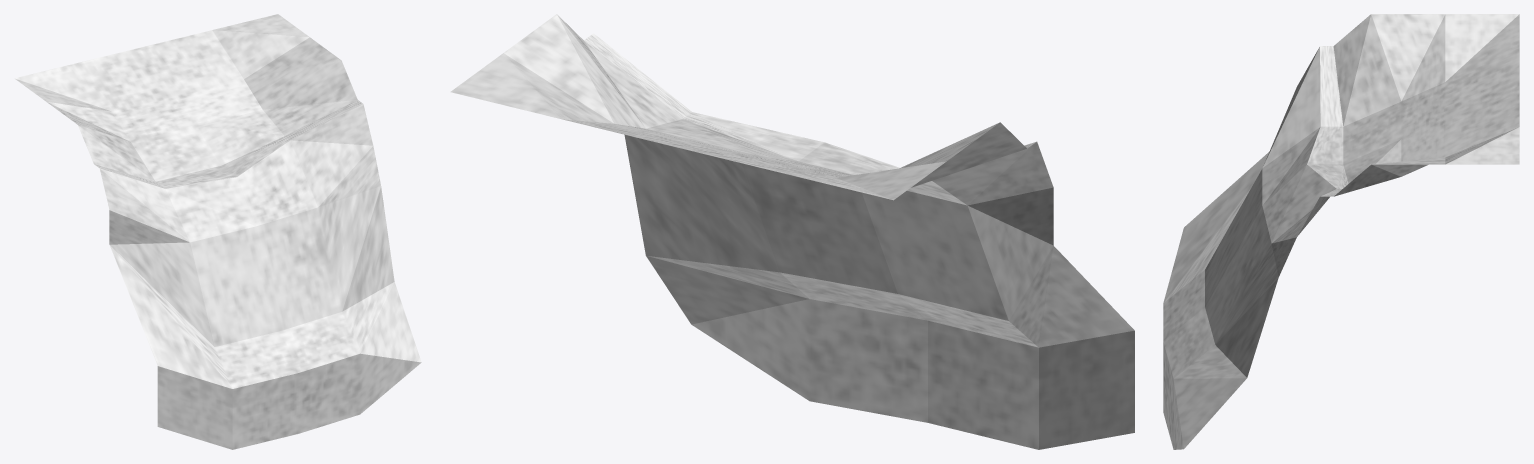
File: NSwall2x2x2_wtf.obj
3 views of the same model, side by side, from view 1: azimuth 30°, elevation 25°; view 2: azimuth 150°, elevation 25°; view 3: azimuth 270°, elevation 25° (orthographic). The views are drawn at different scales.
Parts seen in each view (by area): view 1: group2; view 2: group2; view 3: group2.
Boxes of the visible parts, x1,y1,x2,y2 form: group2: (14, 14, 421, 449); group2: (450, 14, 1134, 449); group2: (1163, 14, 1519, 449).
Size of the model in its own units: 660 by 660 by 660.
